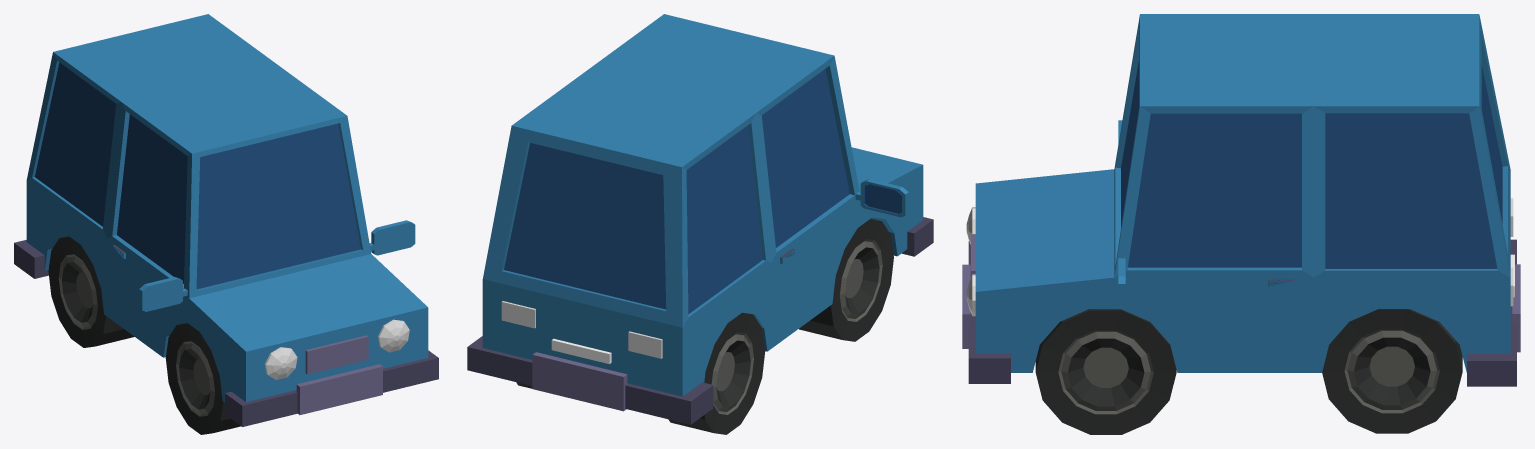
File: mobil biru.fbx
The picture shows the model from 3 angles, left to right: view 1: azimuth 30°, elevation 25°; view 2: azimuth 150°, elevation 25°; view 3: azimuth 270°, elevation 25°; orthographic projection. The views are drawn at different scales.
Parts seen in each view (by area): view 1: mobil biru, lampu depan; view 2: mobil biru, lampu merah belakang.001; view 3: mobil biru, lampu depan.
Boxes of the visible parts, left/top/right/bottom form: mobil biru: left=14, top=14, right=438, bottom=434; lampu depan: left=265, top=319, right=409, bottom=379; mobil biru: left=467, top=14, right=933, bottom=434; lampu merah belakang.001: left=501, top=301, right=662, bottom=358; mobil biru: left=962, top=14, right=1520, bottom=434; lampu depan: left=966, top=207, right=975, bottom=316.
Bounding box in the file's own units: 419 × 387 × 608.
